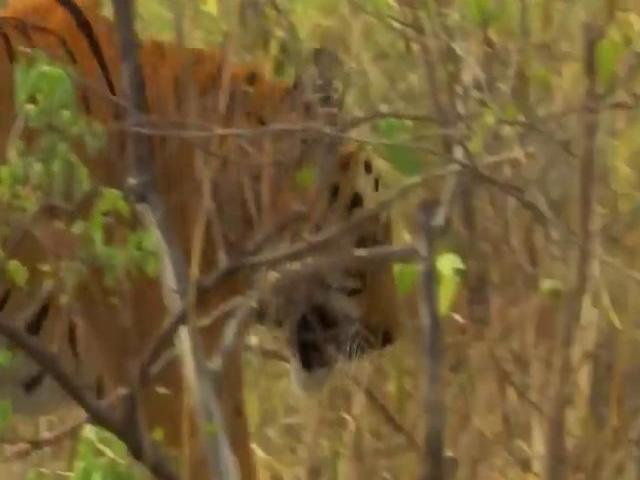elephant: (160, 120, 480, 360)
